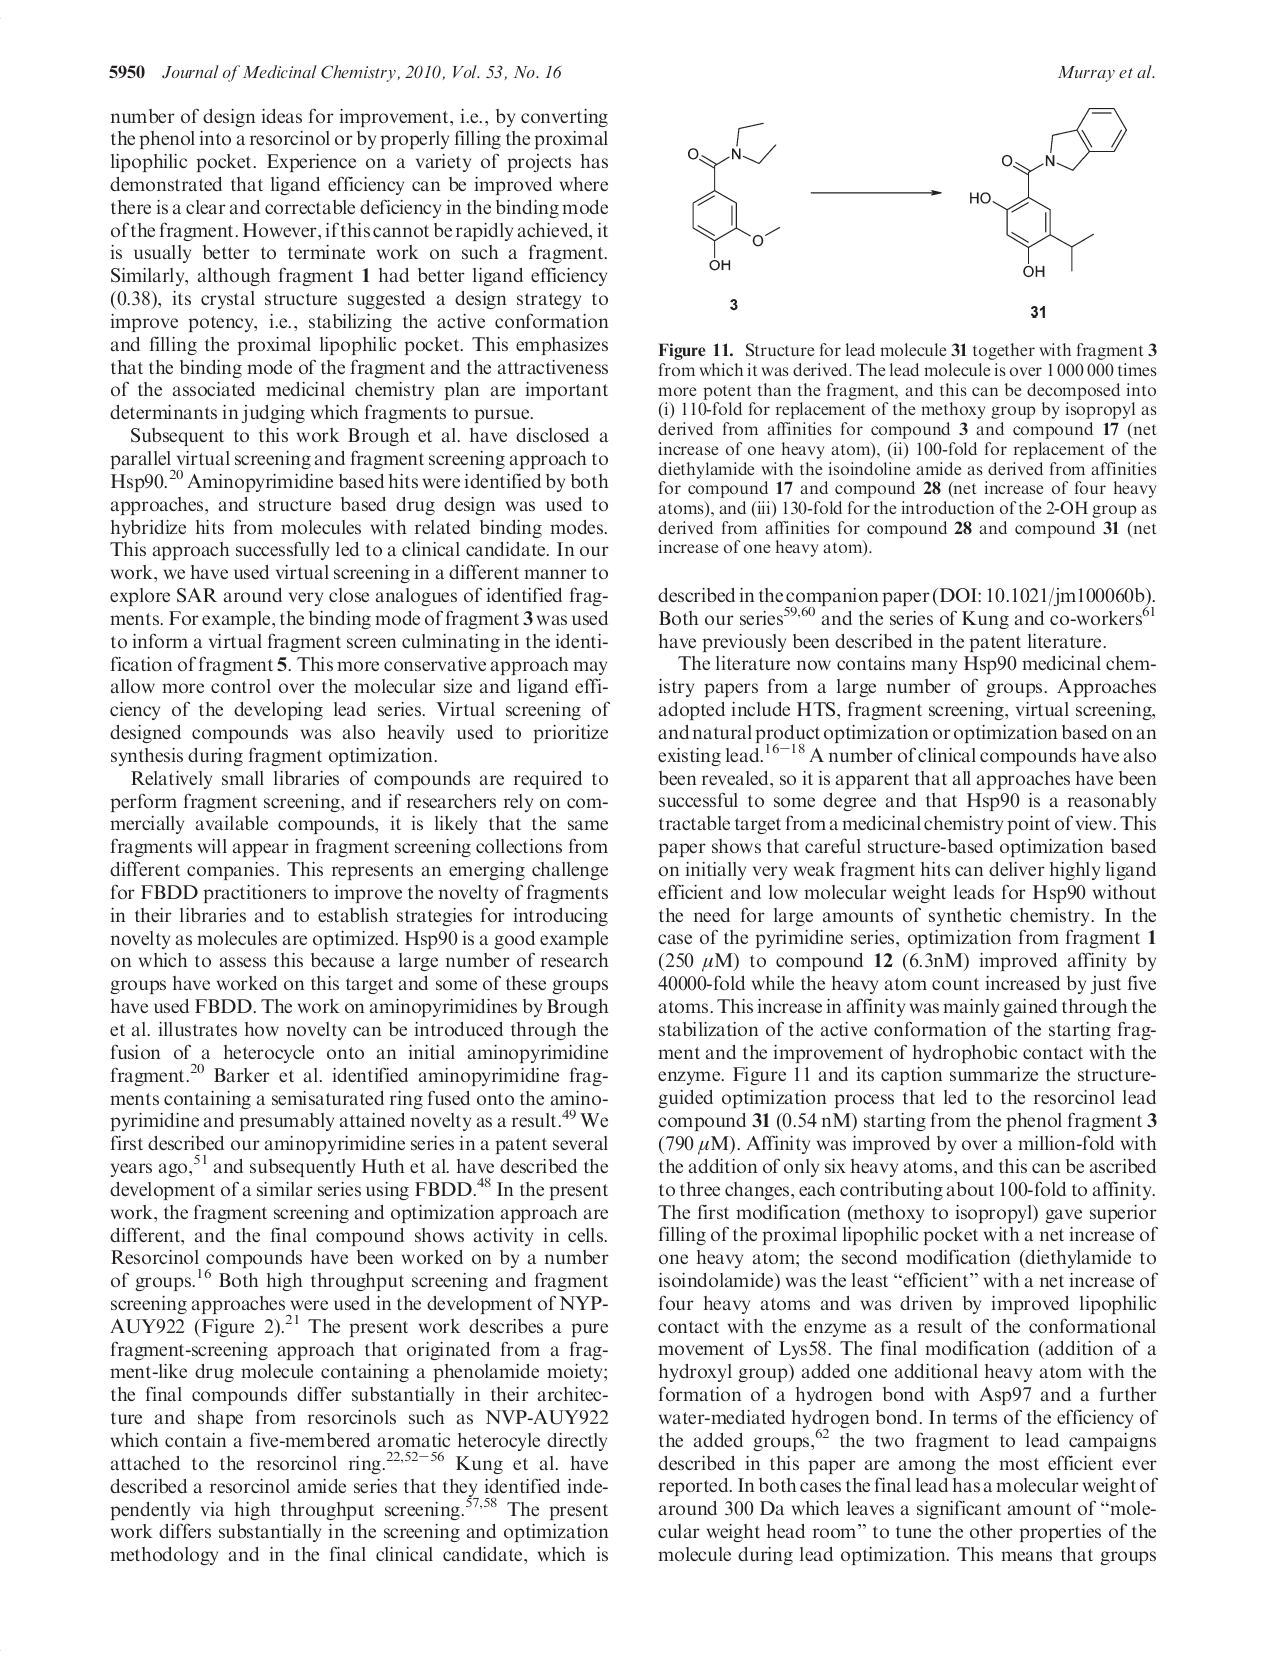exist_molecular: (965, 102, 1130, 279), (680, 116, 785, 274)
